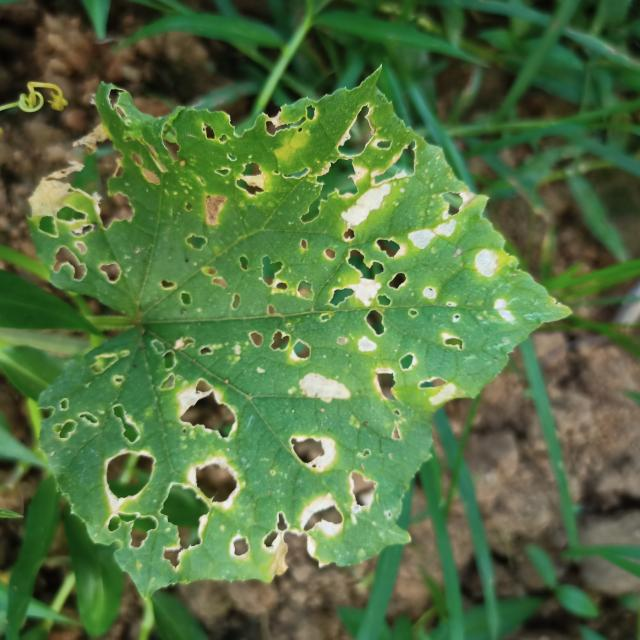disease_cucumber: (30, 114, 489, 574)
